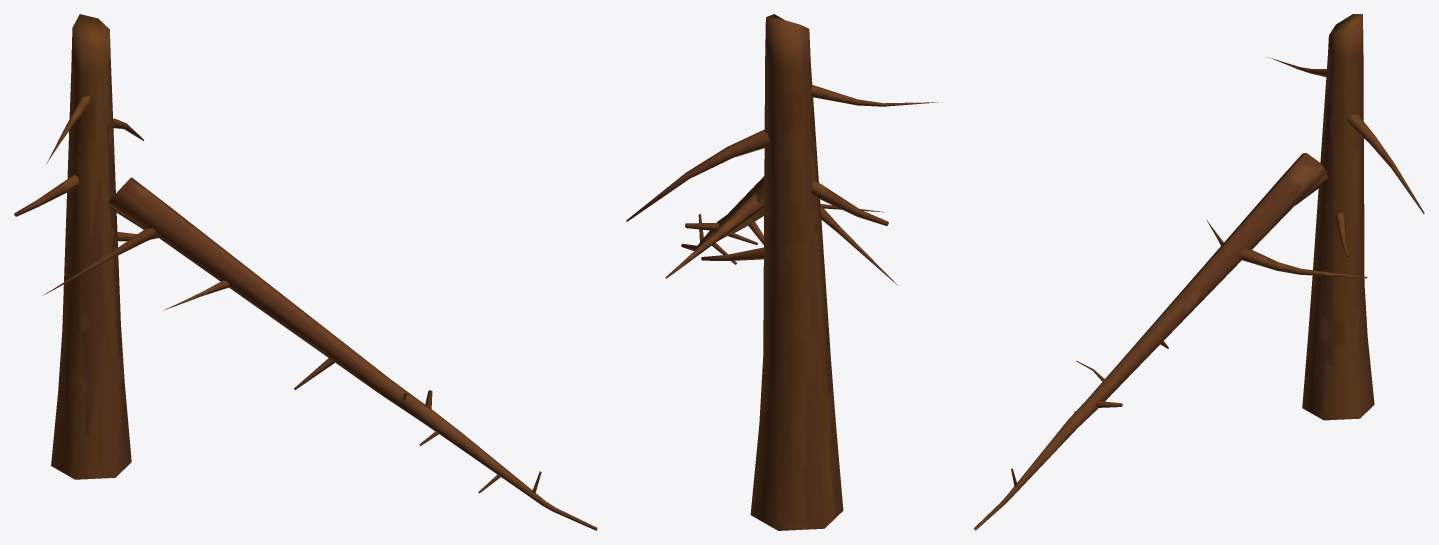
Rendered from STPine6.glb.
3 views of the same model, side by side, from view 1: azimuth 30°, elevation 25°; view 2: azimuth 150°, elevation 25°; view 3: azimuth 270°, elevation 25° (orthographic). The views are drawn at different scales.
Parts seen in each view (by area): view 1: STPine6_Trunk; view 2: STPine6_Trunk; view 3: STPine6_Trunk.
Part boxes in pixels (<box>): STPine6_Trunk: <box>14,14,597,530</box>; STPine6_Trunk: <box>626,14,942,530</box>; STPine6_Trunk: <box>973,14,1424,530</box>.
Bounding box in the file's own units: 5.12 × 5.49 × 5.72.
Materials: 1 (1 with a texture image).
